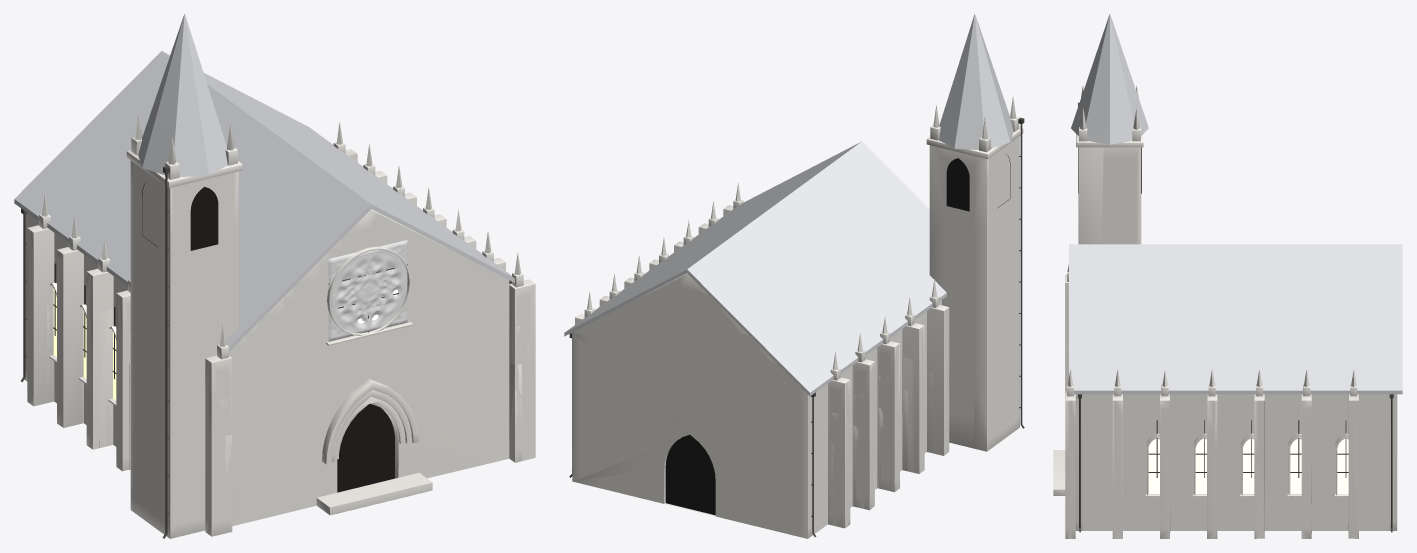
The model's file is rose-window.glb.
3 views of the same model, side by side, from view 1: azimuth 30°, elevation 25°; view 2: azimuth 150°, elevation 25°; view 3: azimuth 270°, elevation 25° (orthographic). The views are drawn at different scales.
Visible parts, largest first — view 1: christian_wall, christian_roof, christian_trim, merged_christian_relief_christian-rose, christian_shadow, detail_christian_pipe, christian_glass; view 2: christian_wall, christian_roof, christian_shadow, christian_trim, detail_christian_pipe; view 3: christian_roof, christian_wall, christian_trim, christian_glass, detail_christian_pipe, detail_christian_frame.
Part boxes in pixels (x1,y1,x2,y2): christian_wall: [24, 149, 535, 538]; christian_roof: [14, 14, 514, 351]; christian_trim: [39, 113, 523, 515]; merged_christian_relief_christian-rose: [328, 240, 407, 341]; christian_shadow: [142, 182, 394, 492]; detail_christian_pipe: [21, 166, 511, 538]; christian_glass: [53, 288, 397, 400]; christian_wall: [572, 136, 1019, 538]; christian_roof: [564, 14, 1013, 396]; christian_shadow: [665, 154, 1010, 515]; christian_trim: [584, 96, 1023, 380]; detail_christian_pipe: [569, 117, 1024, 536]; christian_roof: [1069, 14, 1402, 394]; christian_wall: [1065, 147, 1397, 538]; christian_trim: [1053, 85, 1357, 496]; christian_glass: [1148, 438, 1348, 493]; detail_christian_pipe: [1078, 102, 1393, 532]; detail_christian_frame: [1148, 420, 1348, 477].
Bounding box in the file's own units: 21.33 × 28.02 × 22.2.
